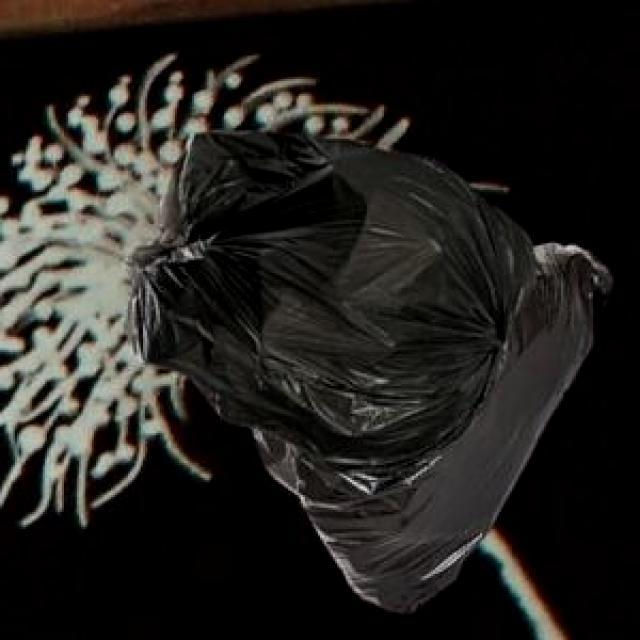Trashbag: (127, 121, 542, 474)
